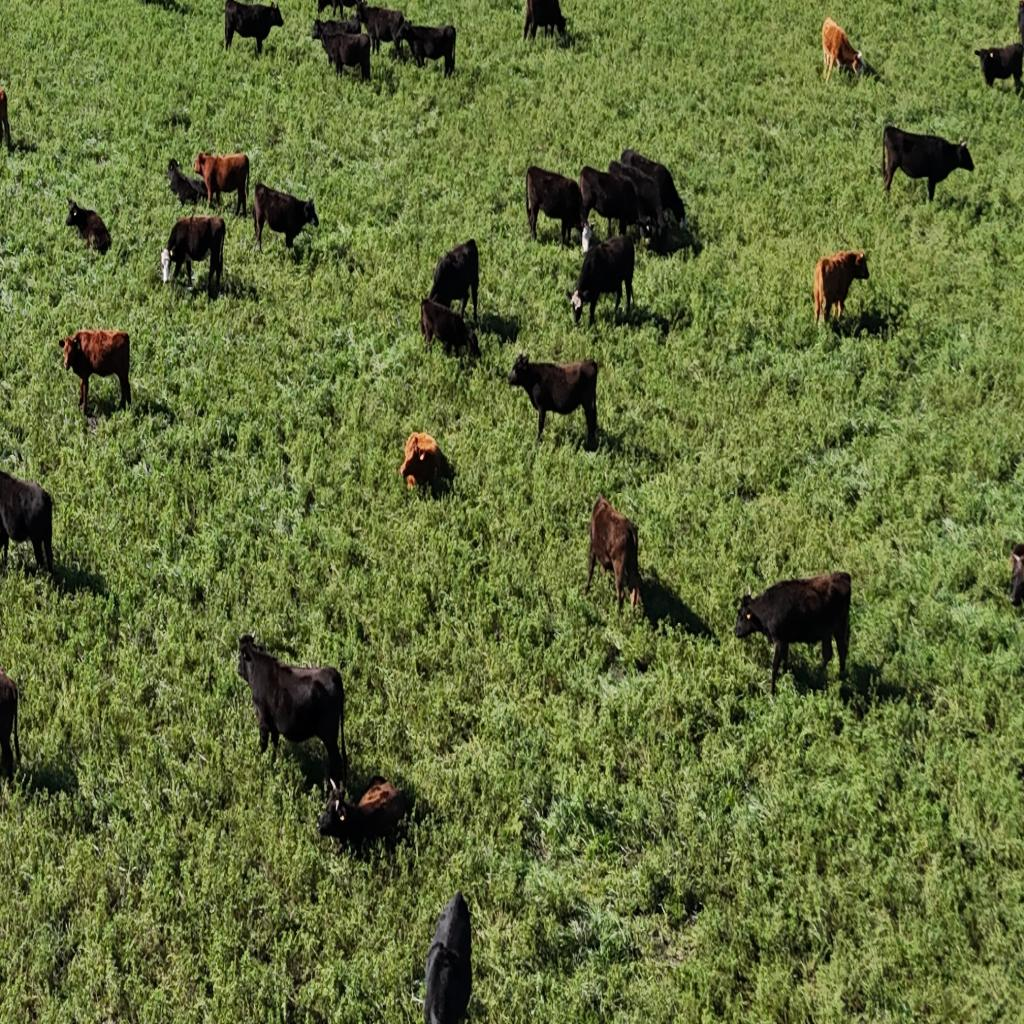cow: (237, 633, 349, 790), (734, 571, 850, 697), (512, 352, 598, 452), (317, 772, 409, 854), (879, 123, 972, 203), (584, 498, 642, 618), (422, 892, 472, 1024), (60, 327, 132, 417), (567, 234, 634, 329), (618, 148, 688, 236), (1, 463, 55, 576), (578, 163, 645, 246), (160, 216, 226, 298), (525, 165, 586, 250), (252, 181, 318, 253), (812, 249, 869, 327), (427, 239, 478, 322), (420, 296, 481, 360), (310, 20, 370, 82), (194, 152, 249, 218), (398, 22, 456, 78), (225, 0, 284, 55), (398, 429, 446, 492), (355, 1, 406, 57), (821, 18, 863, 86), (972, 41, 1024, 95), (64, 198, 112, 254), (0, 663, 20, 785), (166, 158, 210, 209), (524, 1, 566, 42), (313, 15, 361, 44), (1006, 543, 1024, 608), (0, 86, 13, 153), (618, 148, 650, 174), (316, 0, 357, 19), (1010, 0, 1023, 45), (523, 0, 535, 38)
